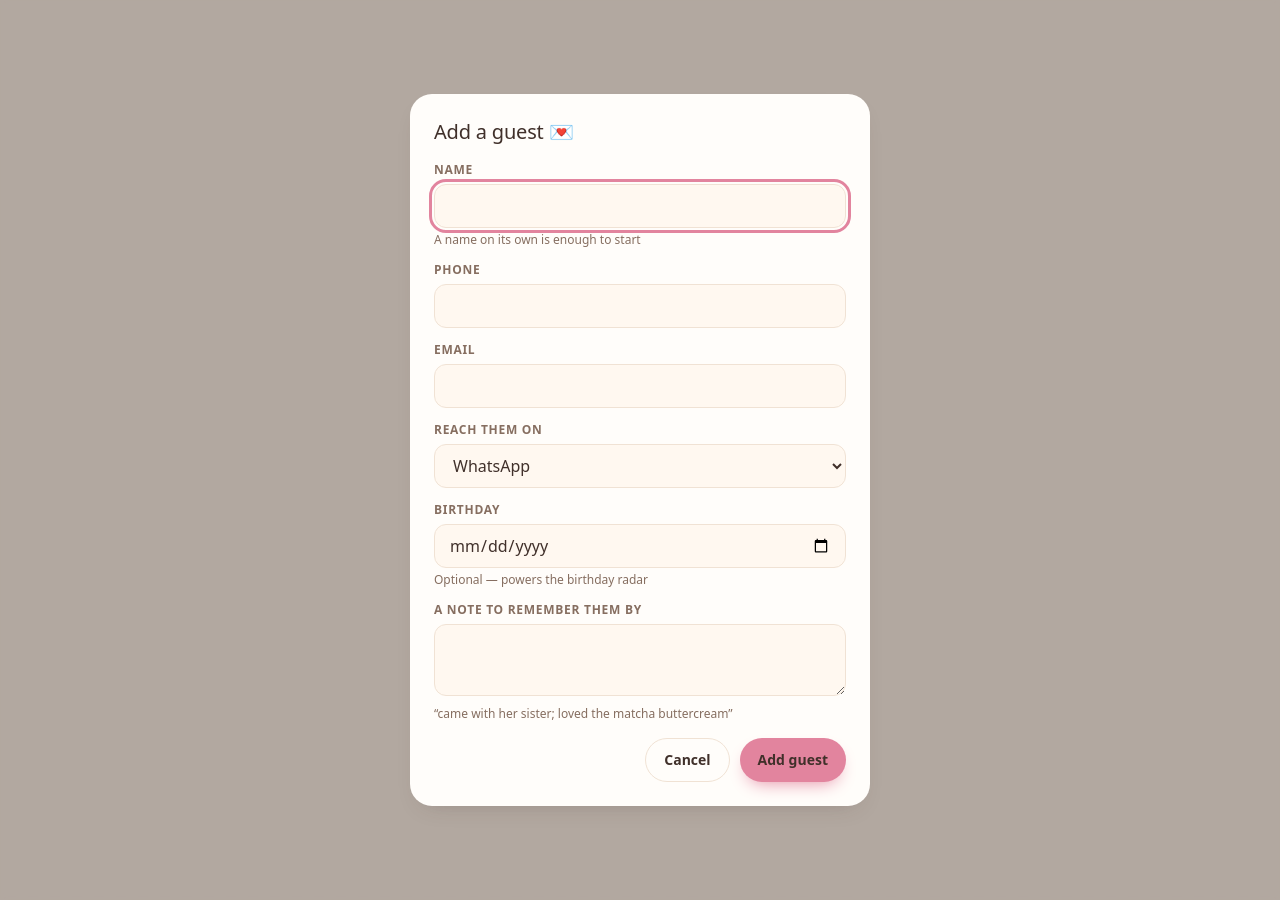
Test: AddGuestModal › shows a field error against the right input
Type "Sana" into the field labelled "Name" at (640, 206), box [434,184,846,228]
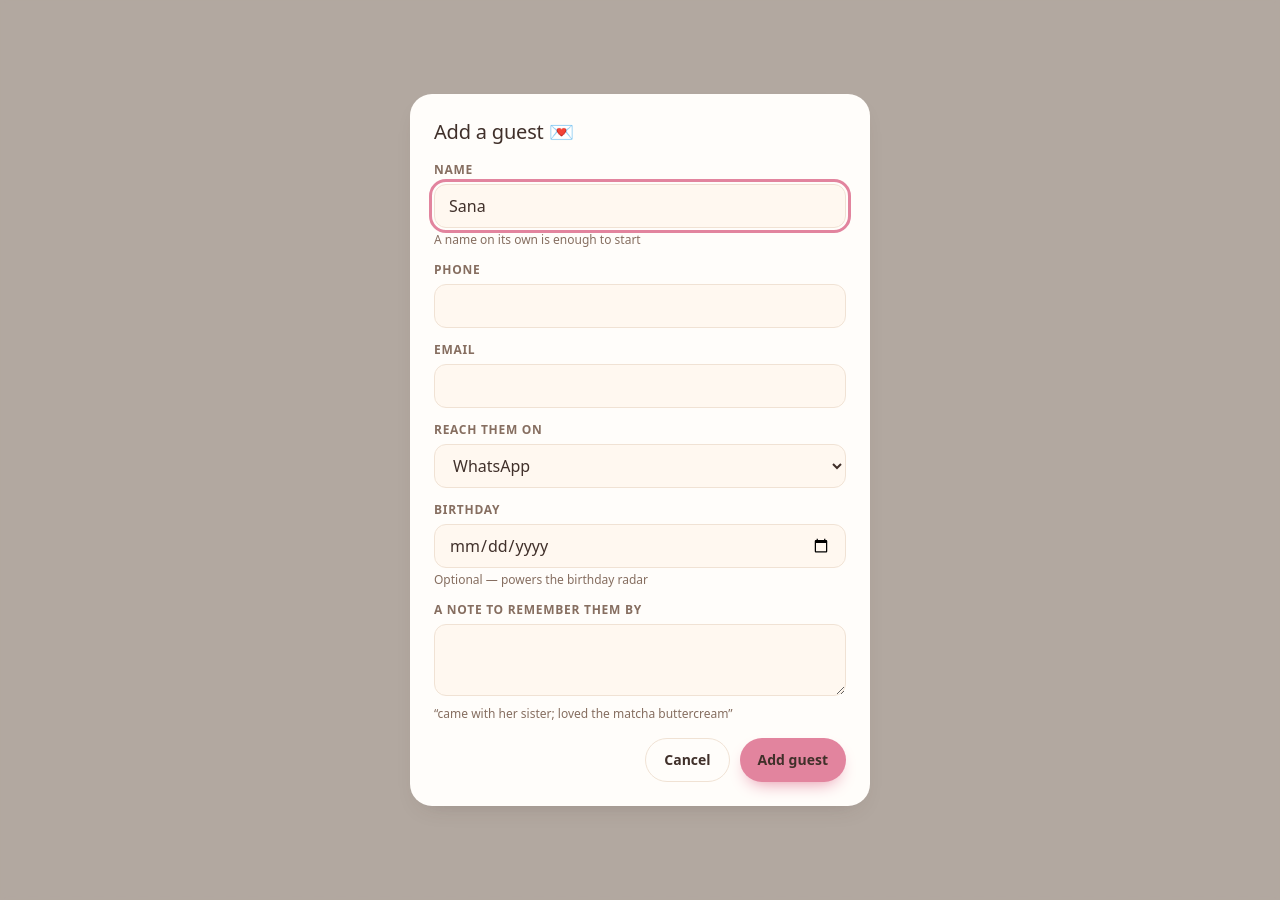
Click the button "Add guest" at (793, 760), box [740,738,846,782]
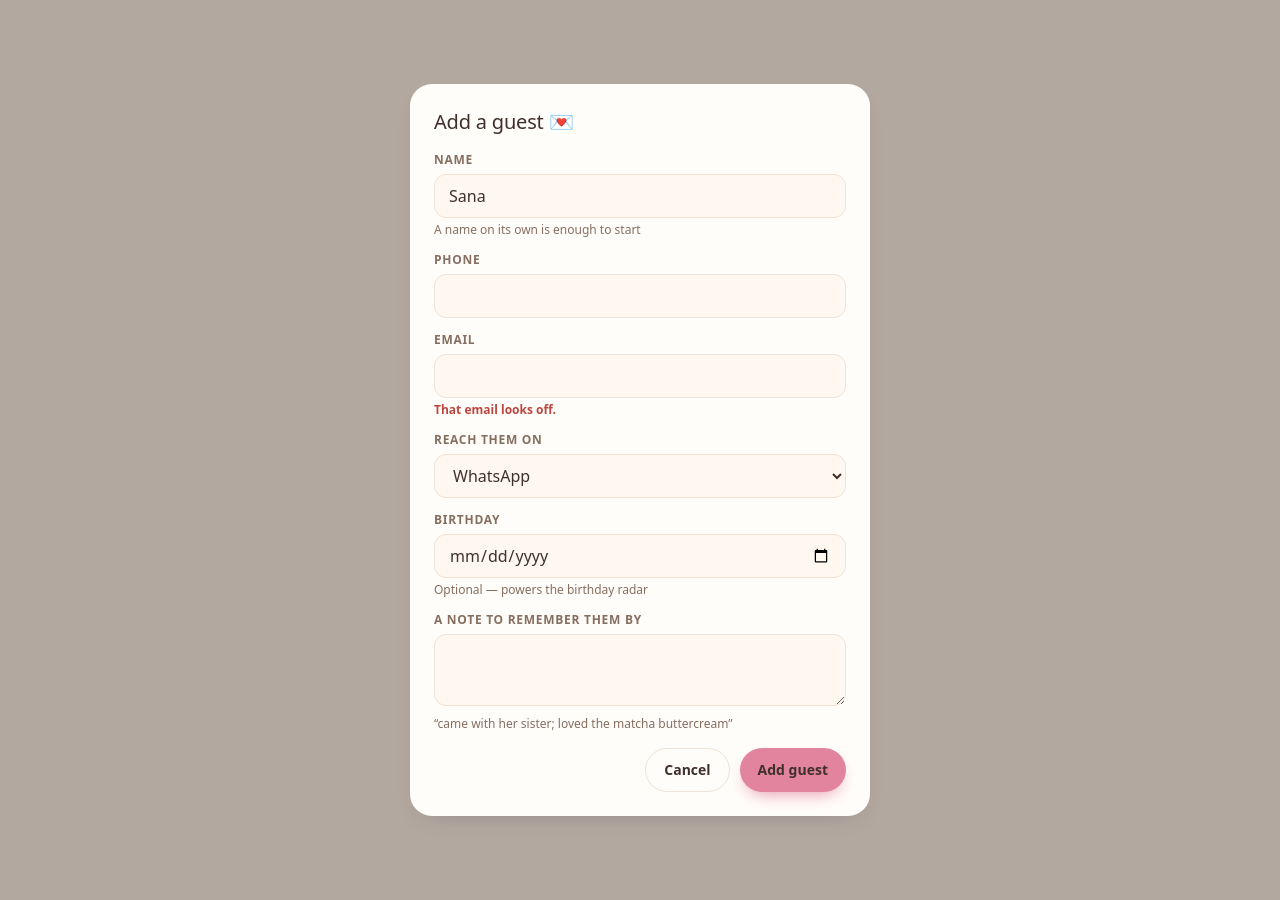
expect the text "That email looks off." is shown: met, box [434,401,556,418]
